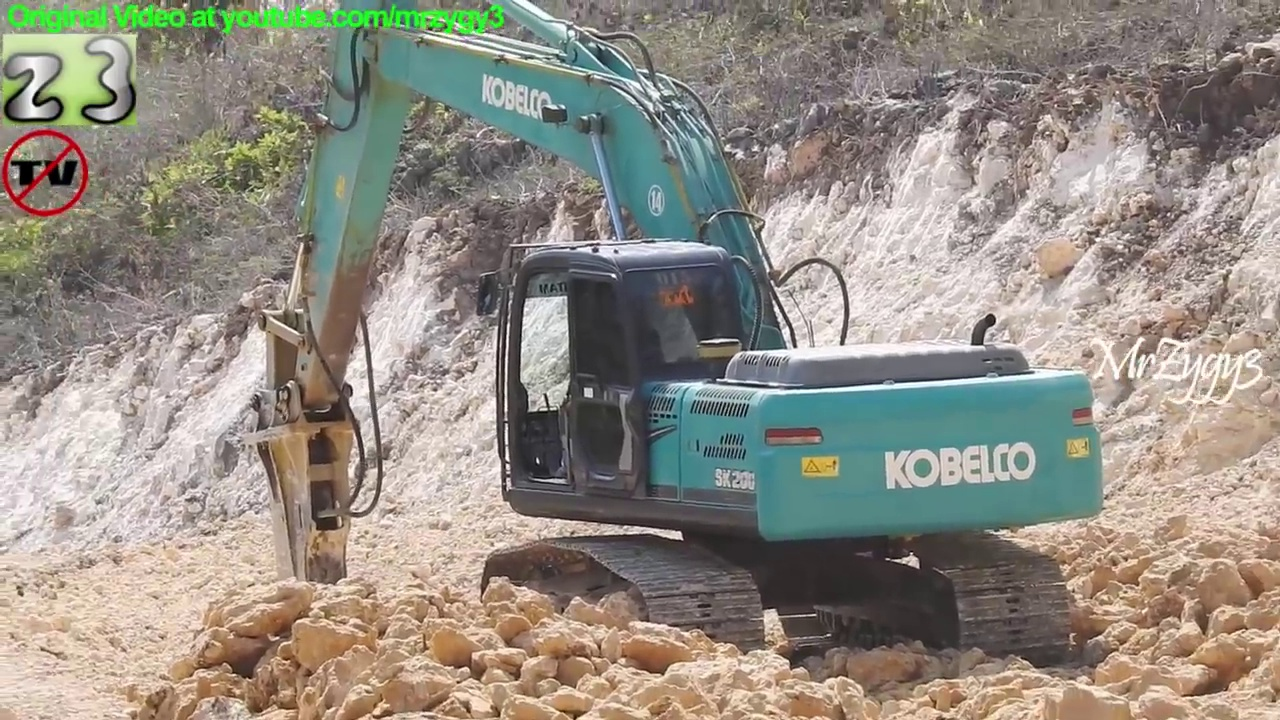excavator: (224, 1, 1119, 685)
